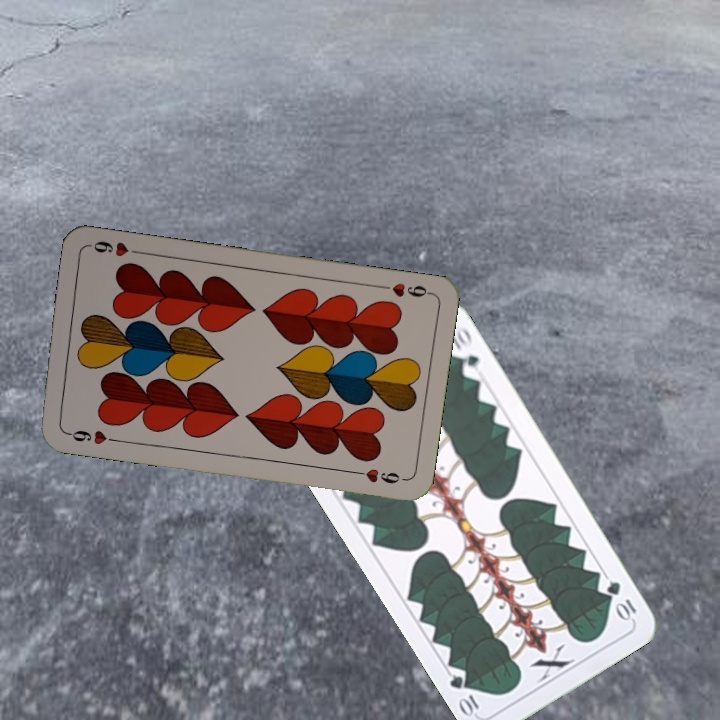G10: (602, 577, 639, 624)
H9: (374, 279, 433, 300), (61, 426, 120, 447)
